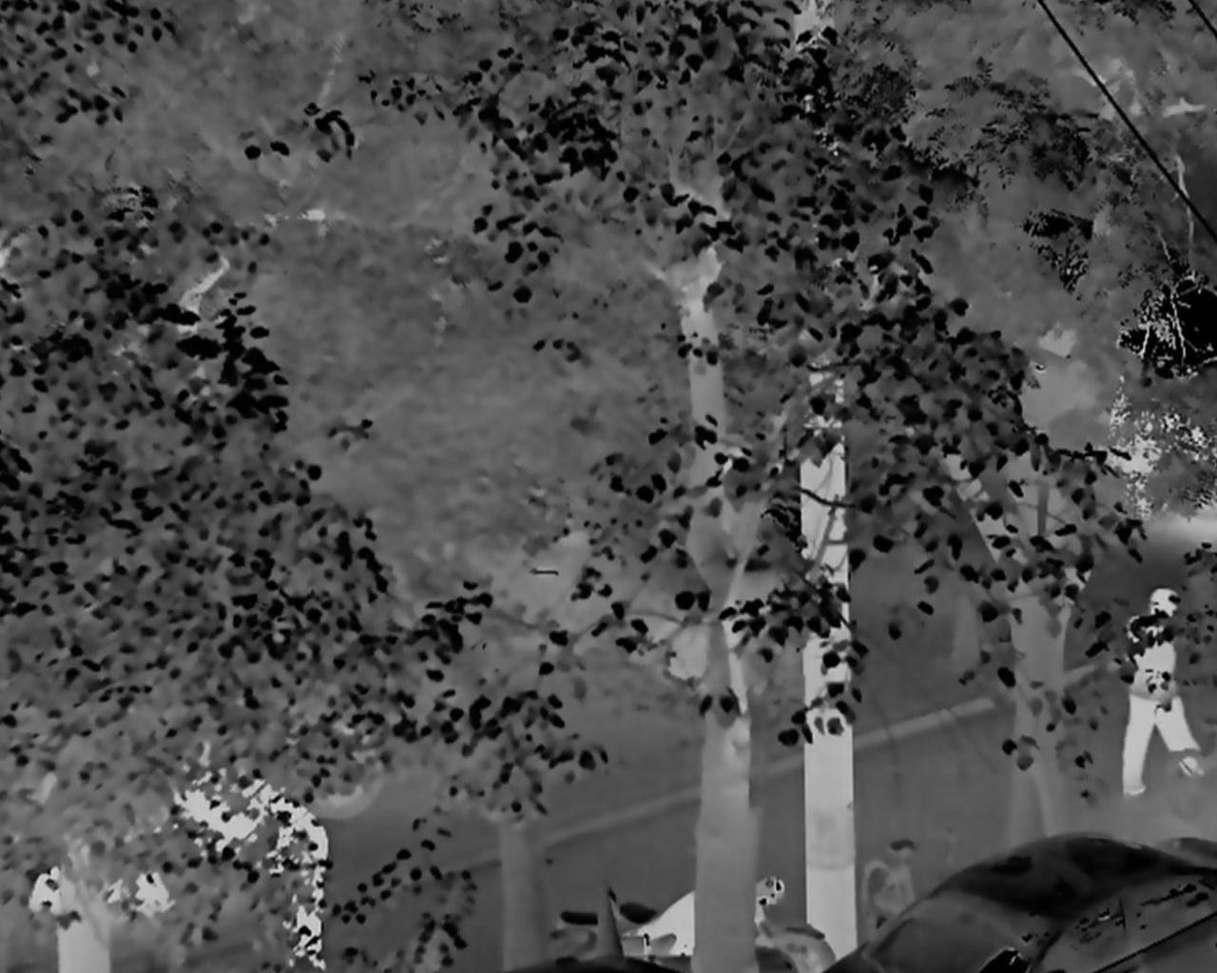person: (1127, 588, 1211, 799), (273, 796, 331, 966)
